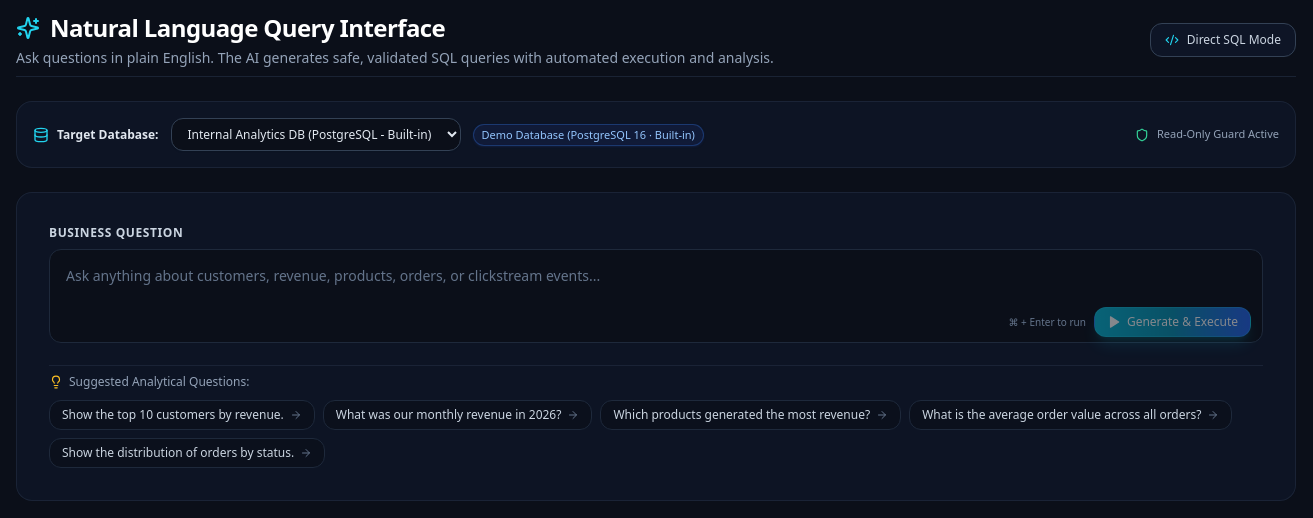
Enterprise RBAC and Authorization Component Suite › QueryView Viewer Lock & Analyst Access › permits query execution and Direct SQL toggling when user is ANALYST
Toggling to Direct SQL
Click the button "Direct SQL Mode" at (1223, 40), box [1150,23,1296,57]
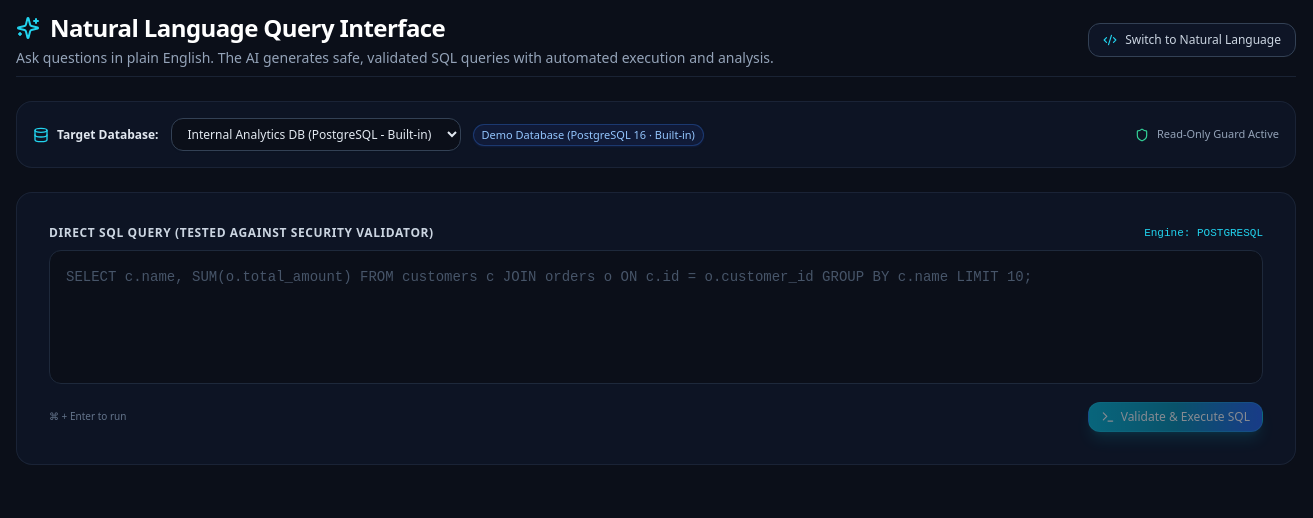
Expected: the text "Switch to Natural Language" is shown, [1125,32,1281,48]
